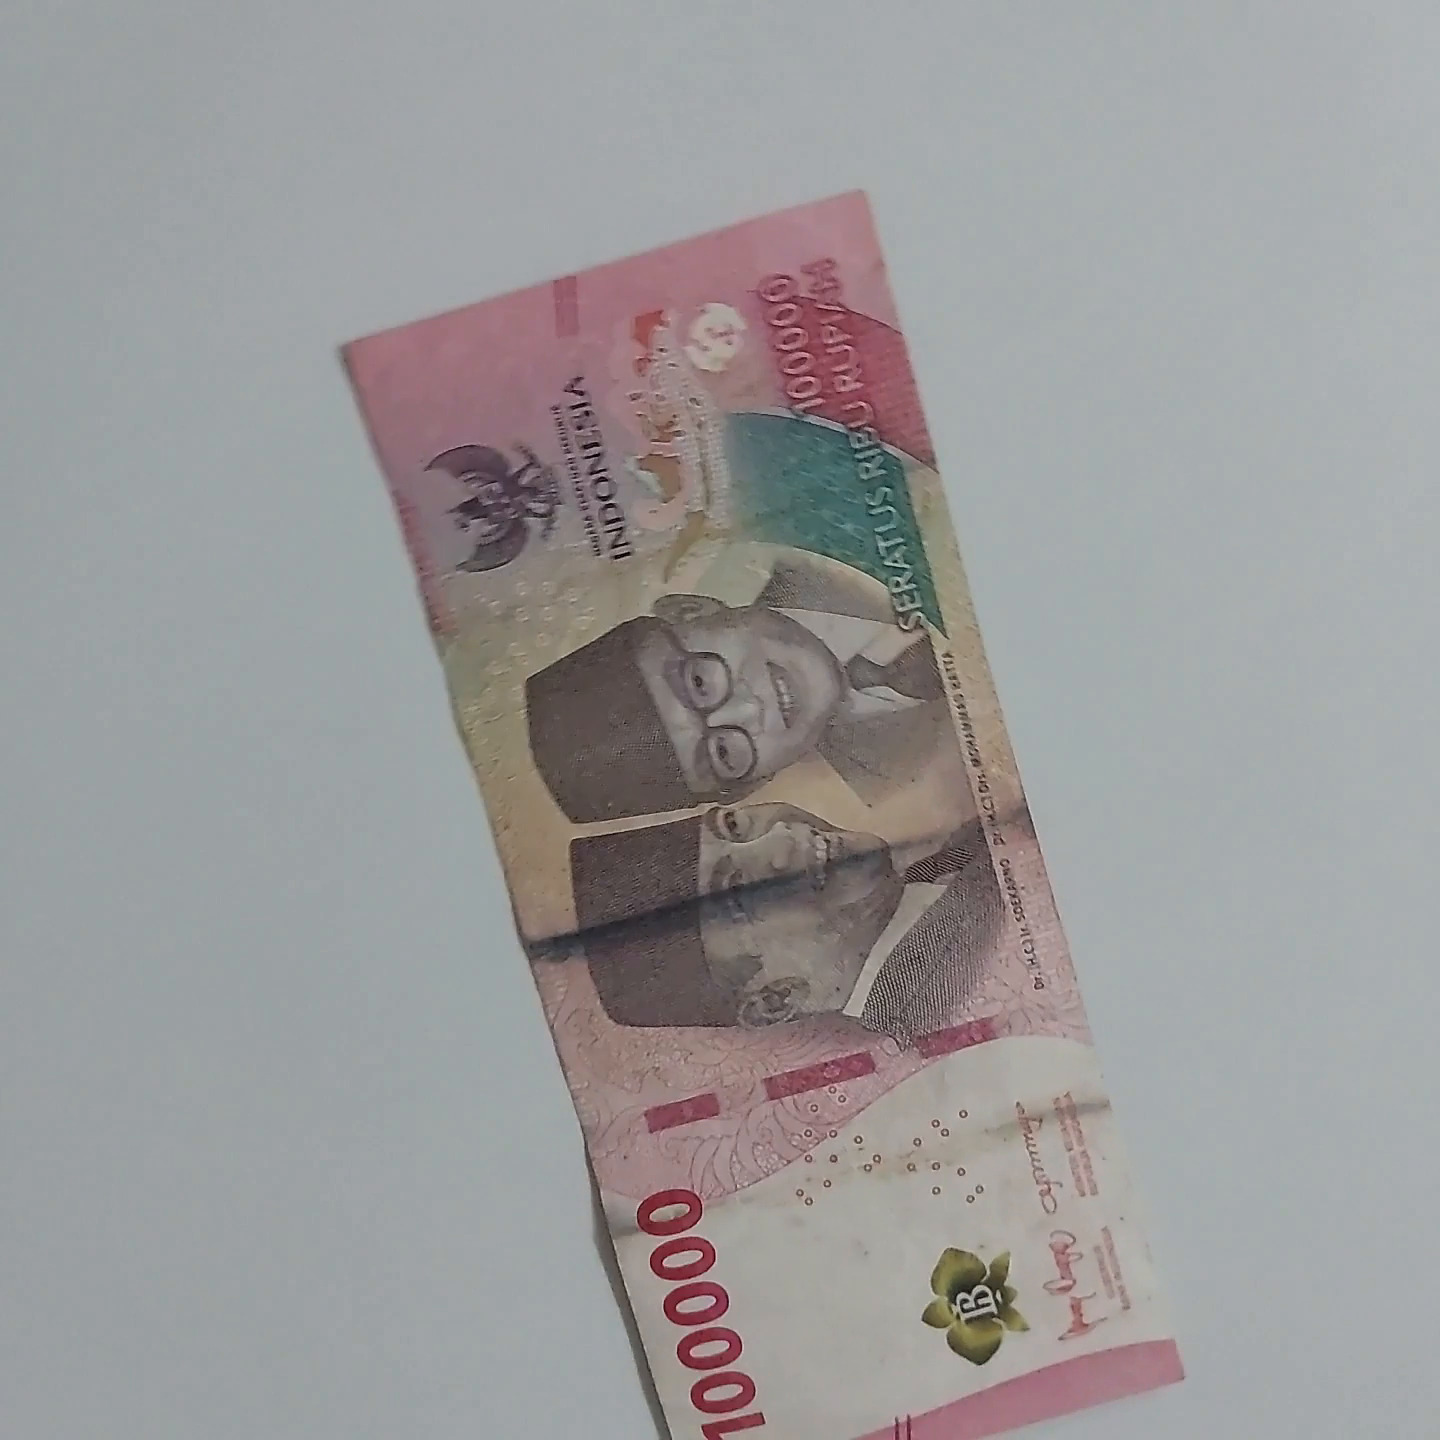100k: (347, 210, 1195, 1440)
